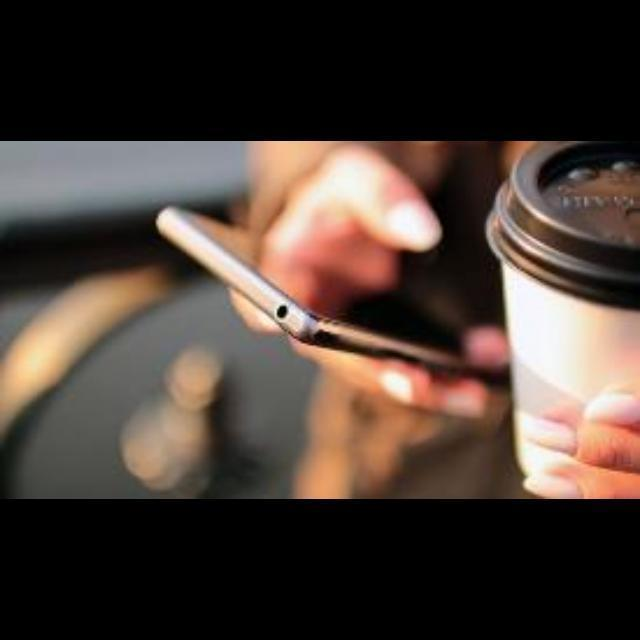PhoneUse: (153, 187, 502, 403)
